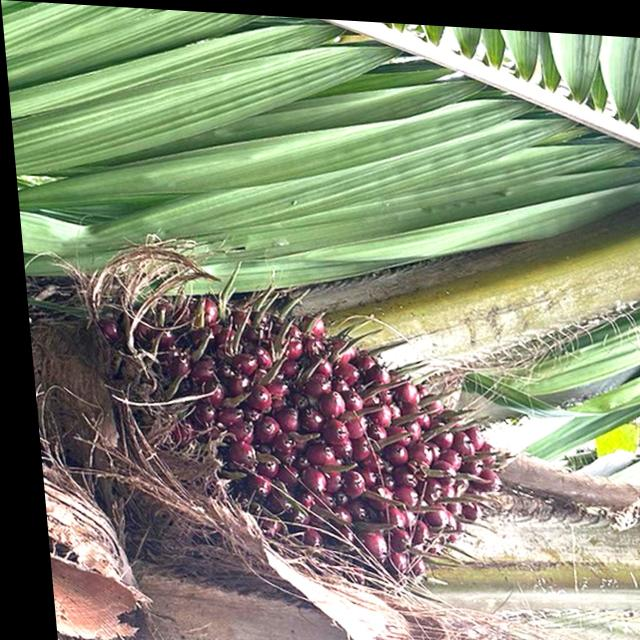ripe: (96, 273, 516, 589)
